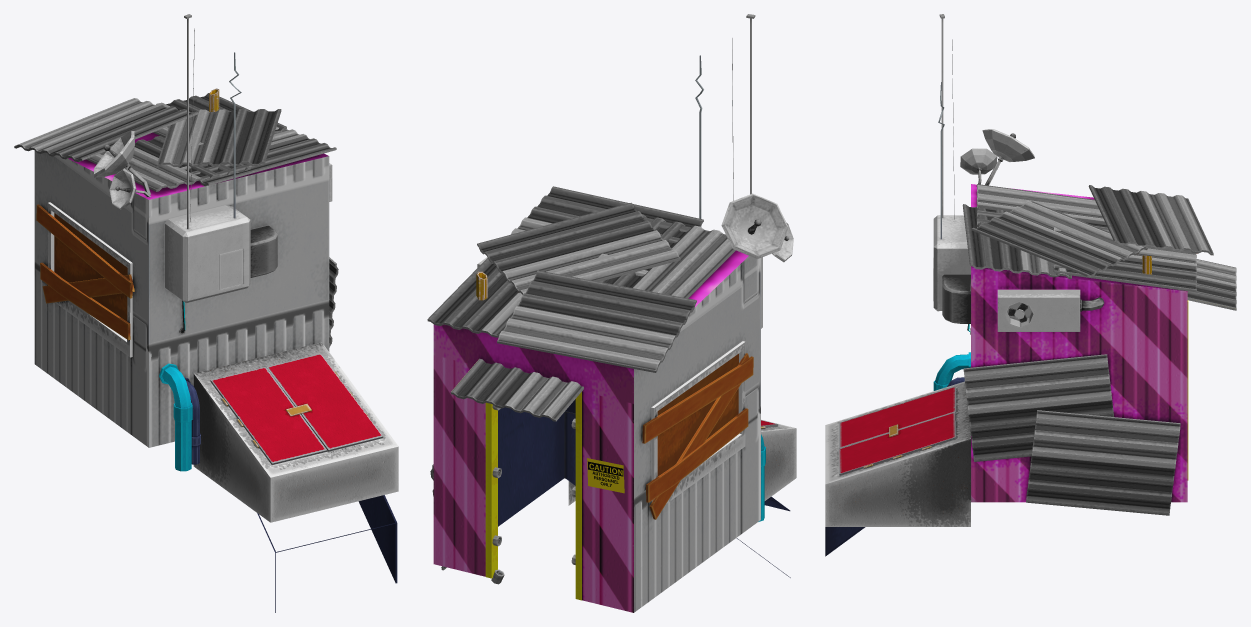
Rendered from shack4.fbx.
3 renders of one model, left to right at view 1: azimuth 30°, elevation 25°; view 2: azimuth 150°, elevation 25°; view 3: azimuth 270°, elevation 25°, orthographic. The views are drawn at different scales.
Parts seen in each view (by area): view 1: pCube6; view 2: pCube6, authorized:pCube8; view 3: pCube6.
Part boxes in pixels (x1,y1,x2,y2): pCube6: [14, 14, 398, 612]; pCube6: [427, 14, 796, 612]; authorized:pCube8: [587, 458, 624, 493]; pCube6: [825, 14, 1236, 556].
Bounding box in the file's own units: 260 × 592 × 417.
Materials: 1 (1 with a texture image).
